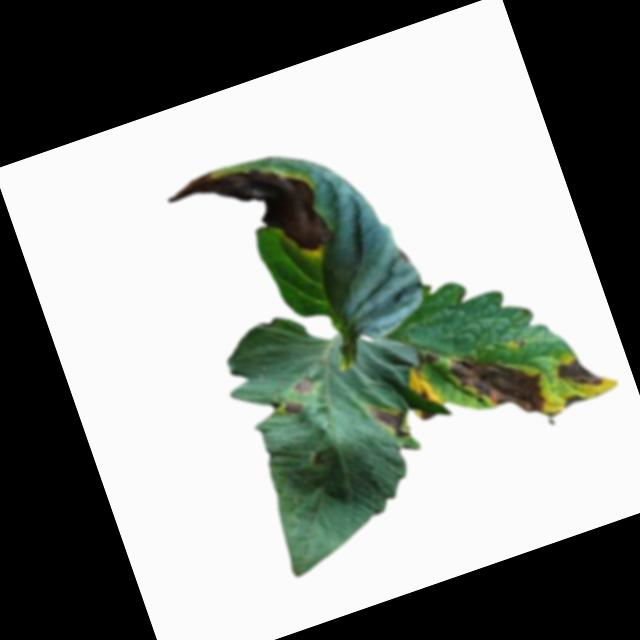Early_blight: (163, 140, 341, 294), (446, 331, 552, 437), (553, 352, 607, 398), (365, 397, 412, 445), (407, 365, 444, 412), (290, 375, 317, 398), (561, 391, 588, 412), (281, 400, 303, 419)
